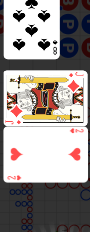2H: (69, 127, 85, 134)
6C: (52, 38, 59, 56)
